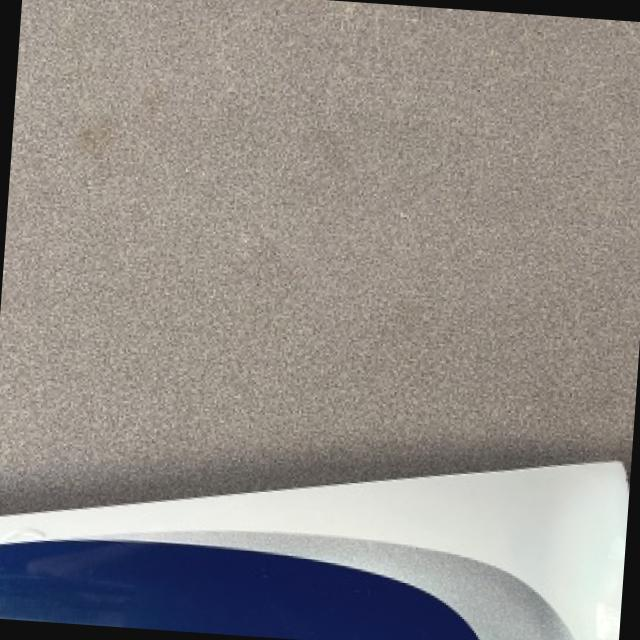healthy: (0, 459, 626, 640)
